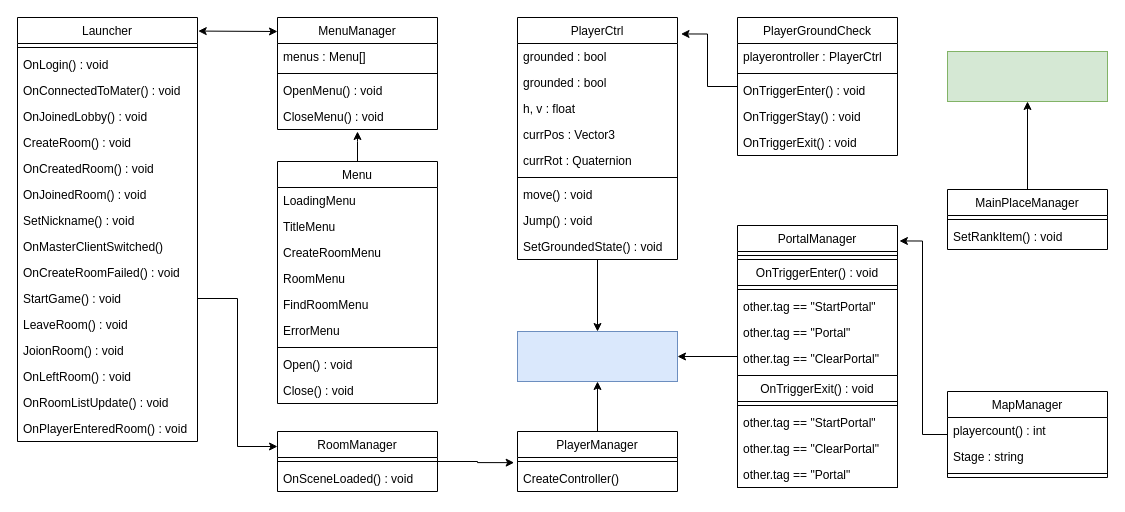
The diagram is 1125 pixels wide and 512 high, and some of its shapes have lost their labels. Here are the shapes that lost their labels. From the top down, the centre of each, then its label:
(x=1027, y=76): MainPlaceMap
(x=597, y=356): 캐릭터
